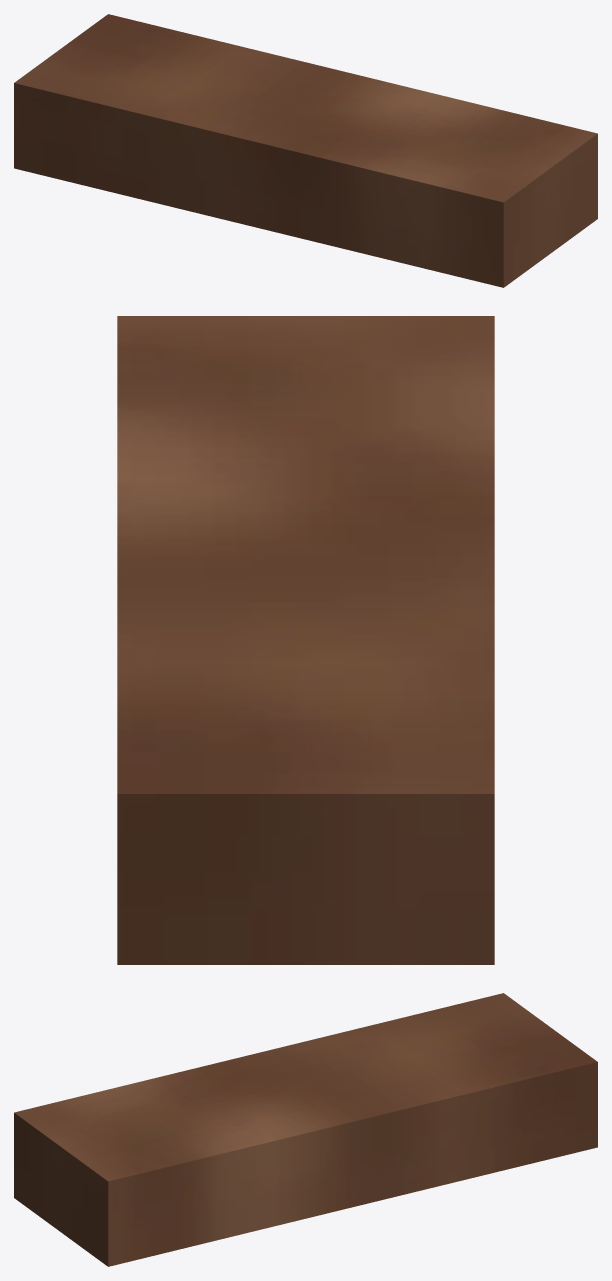
The model's file is body__gauge_tick_3.glb.
The picture shows the model from 3 angles, top to bottom: view 1: azimuth 30°, elevation 25°; view 2: azimuth 150°, elevation 25°; view 3: azimuth 270°, elevation 25°; orthographic projection. The views are drawn at different scales.
Parts seen in each view (by area): view 1: geometry_0; view 2: geometry_0; view 3: geometry_0.
Part boxes in pixels (x1,y1,x2,y2): geometry_0: [14, 14, 597, 287]; geometry_0: [117, 316, 494, 964]; geometry_0: [14, 993, 597, 1266].
Bounding box in the file's own units: 0.00946 × 0.002 × 0.0124.
Materials: 1 (1 with a texture image).
